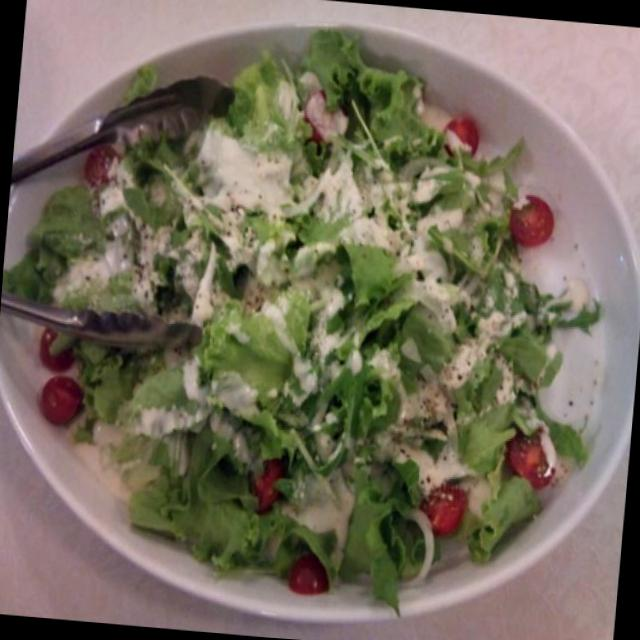Green Salad: (18, 24, 586, 577)
